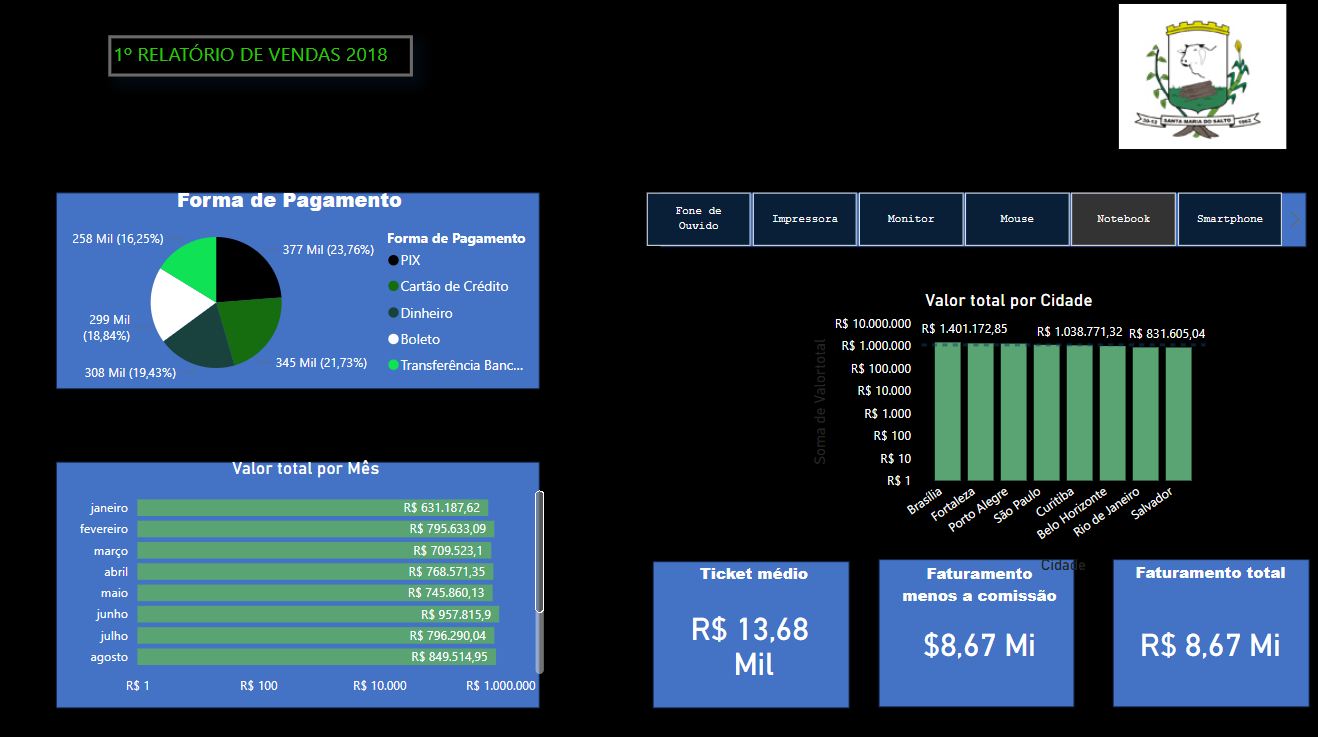

This screenshot's page, from the dashboard's own definition file:
{"tool":"powerbi","page":{"name":"1º RELATORIO DE VENDAS 2018","canvas":[1280,720],"ordinal":1},"visuals":[{"type":"card","title":"Faturamento total","fields":{"Values":["Sum(TRANSPORTADORA 2018.Valortotal)"]},"box":[1077.7,542.5,187.6,137.1],"z":0},{"type":"pieChart","title":"Forma de Pagamento","fields":{"Category":["TRANSPORTADORA 2018.Forma de Pagamento"],"Y":["Sum(TRANSPORTADORA 2018.ID DA VENDA)"]},"box":[41.7,179.5,480,200.3],"z":1000},{"type":"card","title":"Ticket médio","fields":{"Values":["Avg(TRANSPORTADORA 2018.Valortotal)"]},"box":[640,544,182.3,136.3],"z":2000},{"type":"slicer","fields":{"Values":["TRANSPORTADORA 2018.Nome do Produto"]},"box":[600.8,179.8,663.5,65.1],"z":3000},{"type":"textbox","box":[107.9,35.5,300,36.9],"z":4000},{"type":"actionButton","box":[107.9,35.5,294.1,39.9],"z":5000},{"type":"barChart","title":"Valor total por Mês","fields":{"Y":["Sum(TRANSPORTADORA 2018.Valortotal)"],"Category":["TRANSPORTADORA 2018.Data da Venda.Variation.Hierarquia de datas.Mês","TRANSPORTADORA 2018.Data da Venda.Variation.Hierarquia de datas.Dia"]},"box":[62.6,442.4,470.3,237.9],"z":6000},{"type":"image","box":[1048.9,0,230.8,150],"z":7000},{"type":"card","title":"Faturamento menos a comissão","fields":{"Values":["Sum(TRANSPORTADORA 2018.comissão)"]},"box":[867.4,544.1,161.7,113.4],"z":7001},{"type":"clusteredColumnChart","title":"Valor total por Cidade","fields":{"Y":["Sum(TRANSPORTADORA 2018.Valortotal)"],"Category":["TRANSPORTADORA 2018.Cidade"]},"box":[781.8,279.9,389.7,279.9],"z":7002}]}

Visuals, with their boxes in screenshot pixels (x1, y1, x2, y2), scaled from the page's 1280x720 canvas onto the 1318x737 screenshot:
"Faturamento total" card: bbox=[1110, 555, 1303, 696]
"Forma de Pagamento" pieChart: bbox=[43, 184, 537, 389]
"Ticket médio" card: bbox=[659, 557, 847, 696]
slicer - TRANSPORTADORA 2018.Nome do Produto: bbox=[619, 184, 1302, 251]
textbox: bbox=[111, 36, 420, 74]
actionButton: bbox=[111, 36, 414, 77]
"Valor total por Mês" barChart: bbox=[64, 453, 549, 696]
image: bbox=[1080, 0, 1317, 154]
"Faturamento menos a comissão" card: bbox=[893, 557, 1060, 673]
"Valor total por Cidade" clusteredColumnChart: bbox=[805, 287, 1206, 573]
